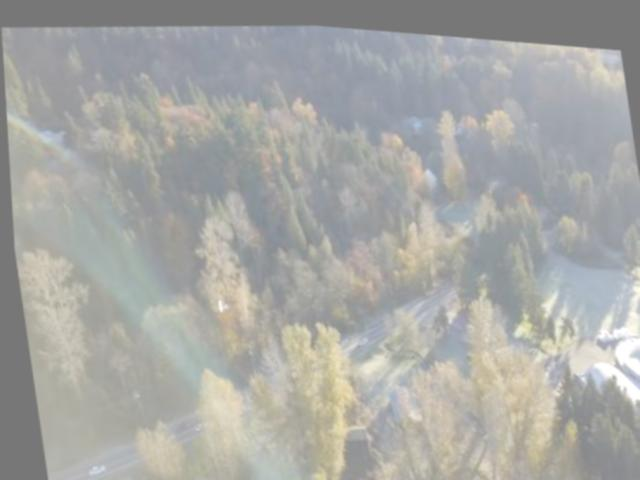uav: (204, 287, 233, 318)
